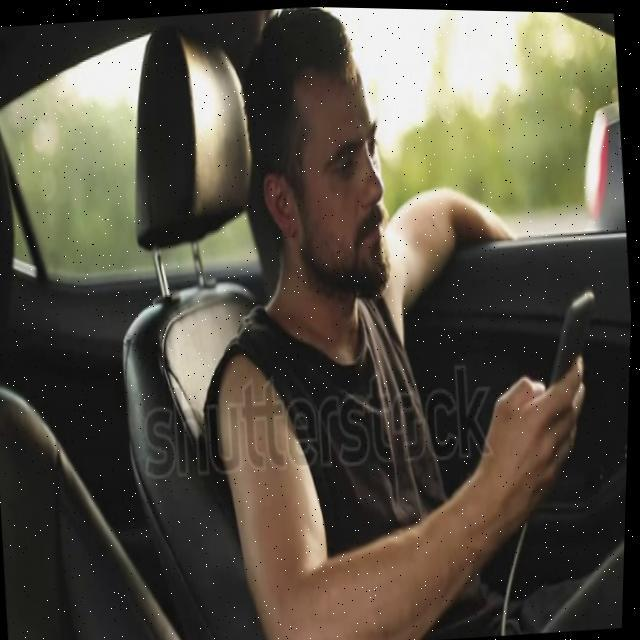PhoneCall: (544, 282, 605, 388)
